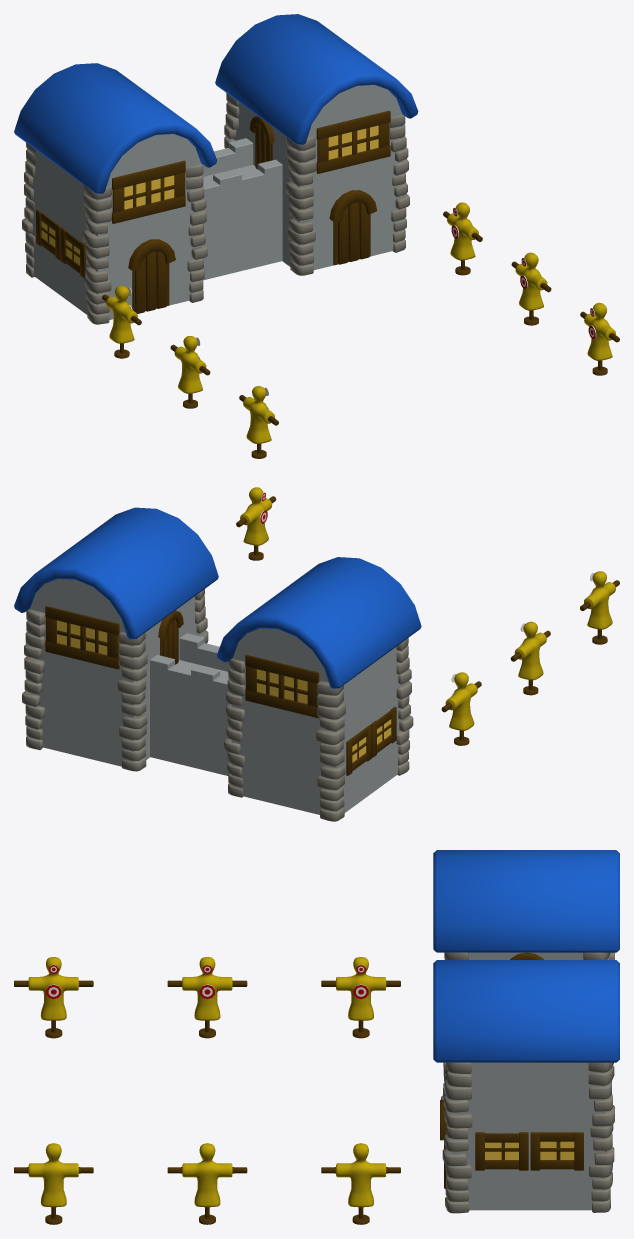
The model's file is GuardsBarracks_BlueTeam.glb.
3 views of the same model, one above another, from view 1: azimuth 30°, elevation 25°; view 2: azimuth 150°, elevation 25°; view 3: azimuth 270°, elevation 25° (orthographic). The views are drawn at different scales.
Visible parts, largest first — view 1: GuardBarracks_BlueTeam; view 2: GuardBarracks_BlueTeam; view 3: GuardBarracks_BlueTeam.
Boxes of the visible parts, bbox=[...] form: GuardBarracks_BlueTeam: bbox=[14, 14, 619, 458]; GuardBarracks_BlueTeam: bbox=[14, 487, 619, 821]; GuardBarracks_BlueTeam: bbox=[14, 850, 619, 1224].
Bounding box in the file's own units: 21.2 × 10.84 × 27.61.
